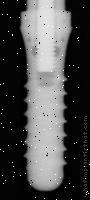Straumann ITI: (20, 0, 72, 192)
